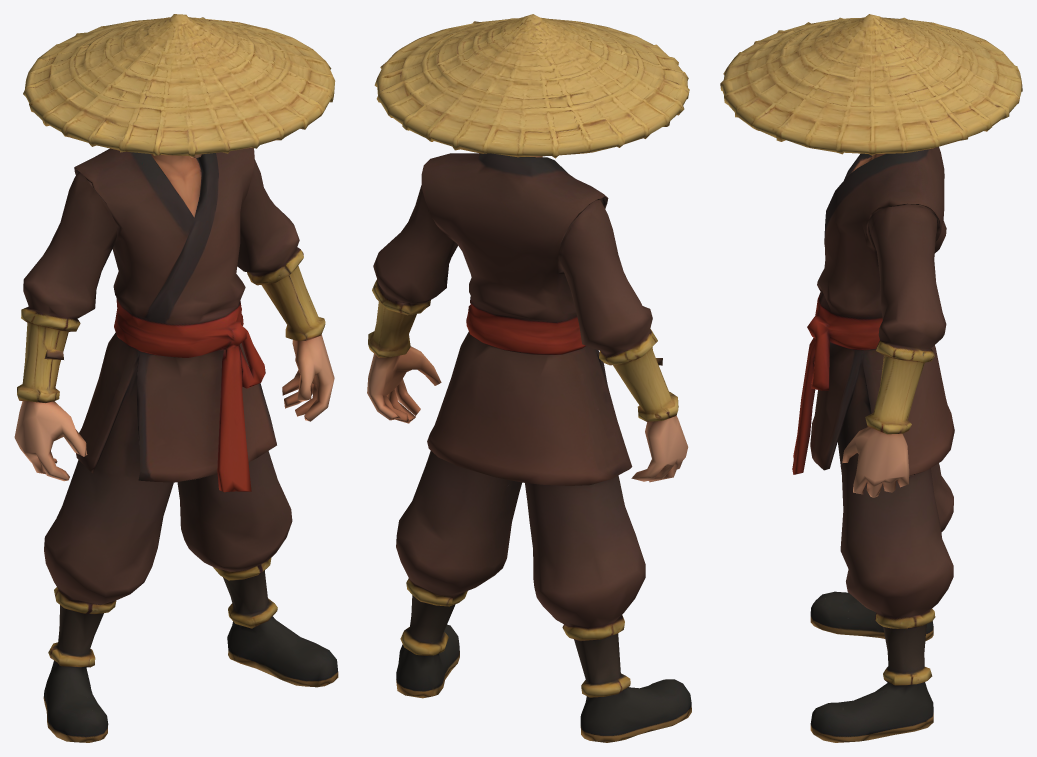
File: bamboo.glb
3 views of the same model, side by side, from view 1: azimuth 30°, elevation 25°; view 2: azimuth 150°, elevation 25°; view 3: azimuth 270°, elevation 25° (orthographic). The views are drawn at different scales.
Parts seen in each view (by area): view 1: tripo_node_f5adb9a6-d3d7-4ec3-81c8-691a5e8e16c8; view 2: tripo_node_f5adb9a6-d3d7-4ec3-81c8-691a5e8e16c8; view 3: tripo_node_f5adb9a6-d3d7-4ec3-81c8-691a5e8e16c8.
Boxes of the visible parts, x1=… form: tripo_node_f5adb9a6-d3d7-4ec3-81c8-691a5e8e16c8: x1=14, y1=14, x2=338, y2=742; tripo_node_f5adb9a6-d3d7-4ec3-81c8-691a5e8e16c8: x1=367, y1=14, x2=691, y2=742; tripo_node_f5adb9a6-d3d7-4ec3-81c8-691a5e8e16c8: x1=720, y1=14, x2=1022, y2=742.
Bounding box in the file's own units: 0.4753 × 1 × 0.4137.
1 material, 1 textured.
